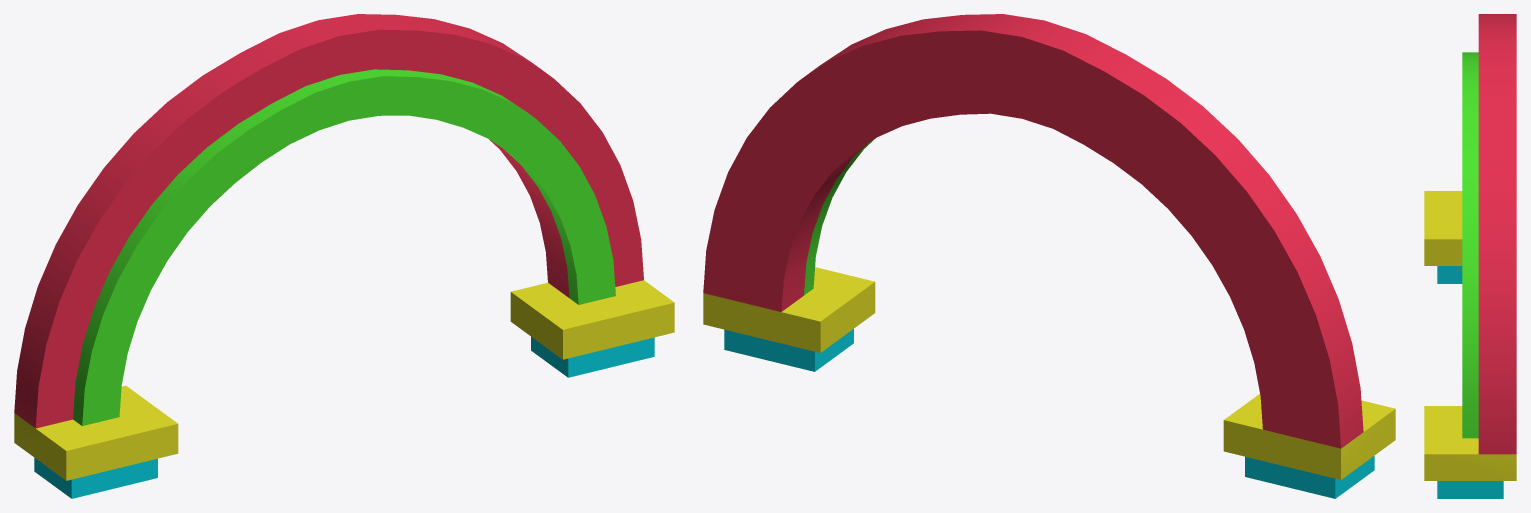
File: Arco_Fabre (3).fbx
3 renders of one model, left to right at view 1: azimuth 30°, elevation 25°; view 2: azimuth 150°, elevation 25°; view 3: azimuth 270°, elevation 25°, orthographic. The views are drawn at different scales.
Visible parts, largest first — view 1: Puerta_Arco.001; view 2: Puerta_Arco.001; view 3: Puerta_Arco.001.
Part boxes in pixels (<box>): Puerta_Arco.001: <box>14,14,674,498</box>; Puerta_Arco.001: <box>703,14,1395,498</box>; Puerta_Arco.001: <box>1424,14,1516,498</box>.
Size of the model in its own units: 514 by 303 by 76.34.
